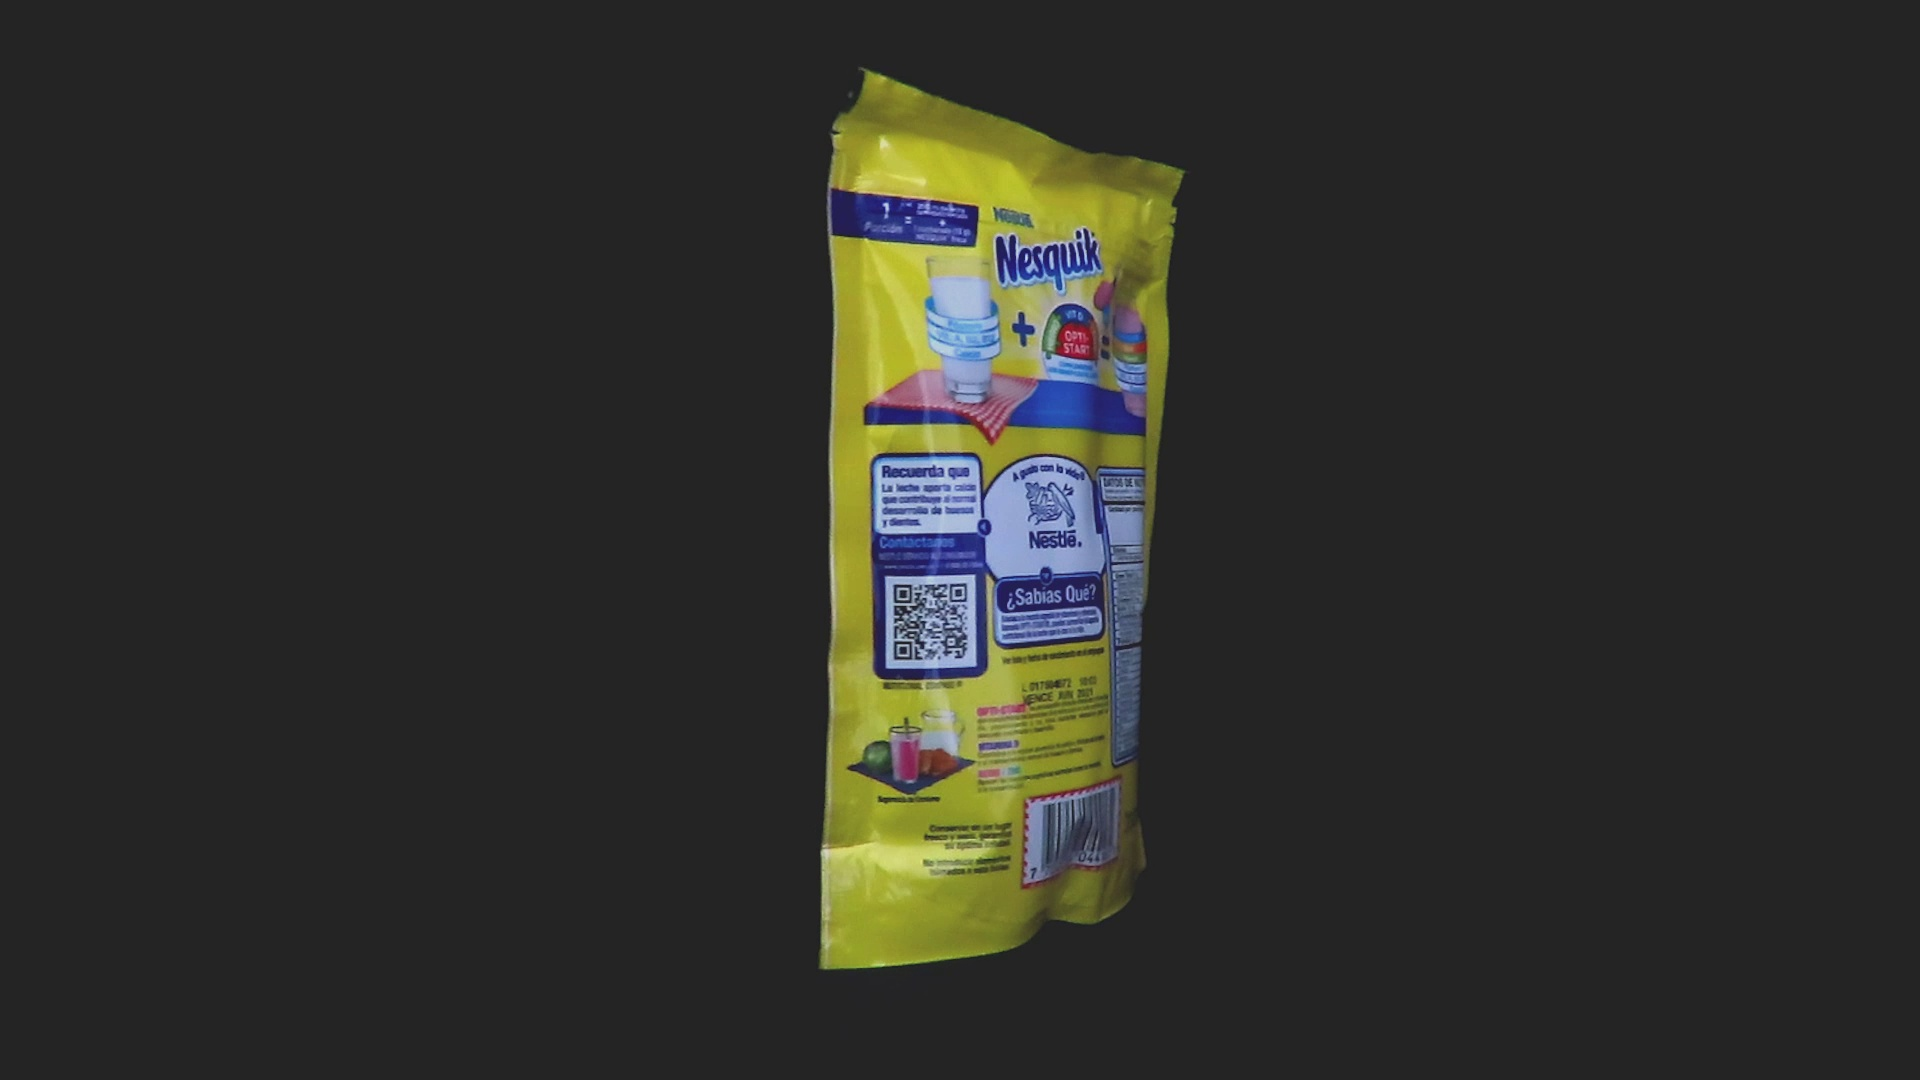COL0170305DYP20000: (814, 62, 1192, 976)
